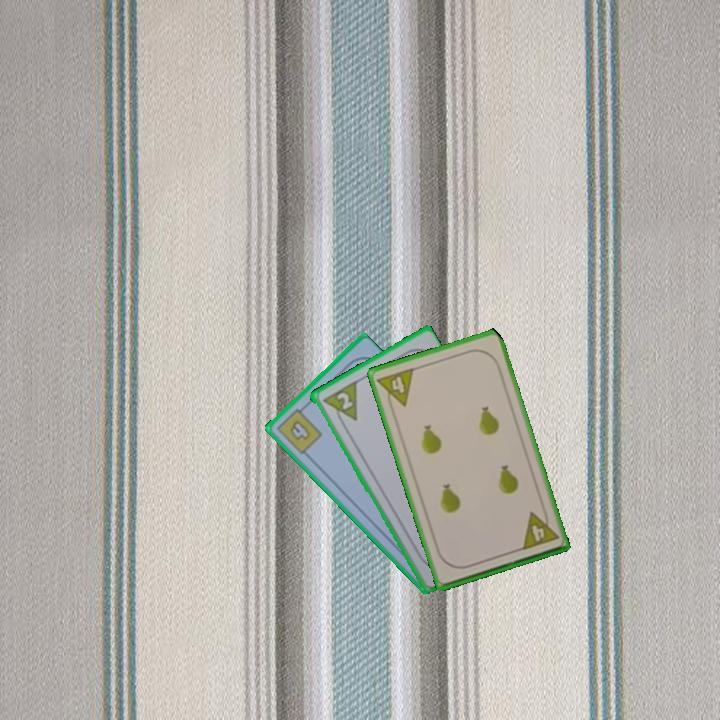2p: (319, 378, 360, 430)
4b: (273, 402, 325, 457)
4p: (374, 364, 417, 413), (518, 505, 561, 553)
